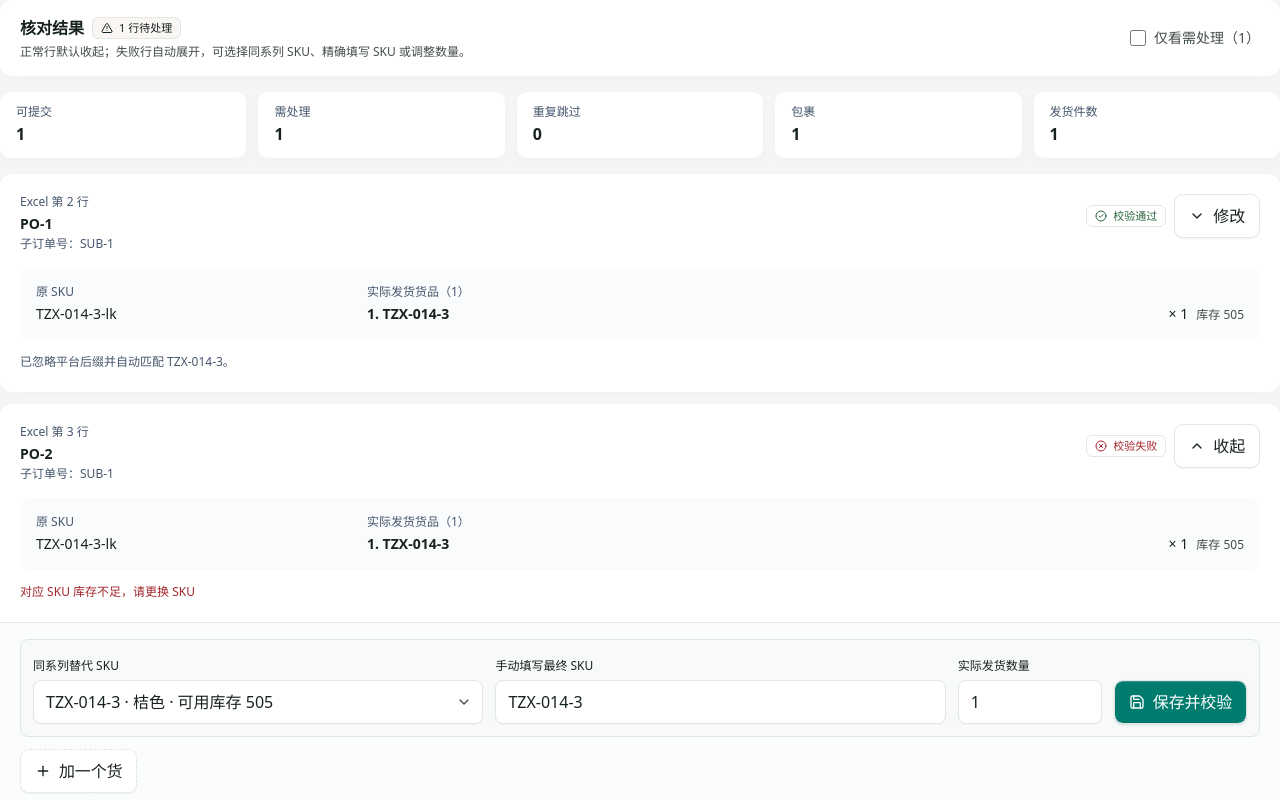
ImportReviewTable › keeps ready rows compact, opens failed rows, and filters to rows needing attention
The image size is (1280, 800).
Expected: the text "对应 SKU 库存不足，请更换 SKU" is shown, [20,583,195,600]
What coordinates should you click on to do the following:
click the button with aria-label "修改 Excel 第 2 行"
I would click on:
 (1217, 216)
Its box is [1174,194,1260,238].
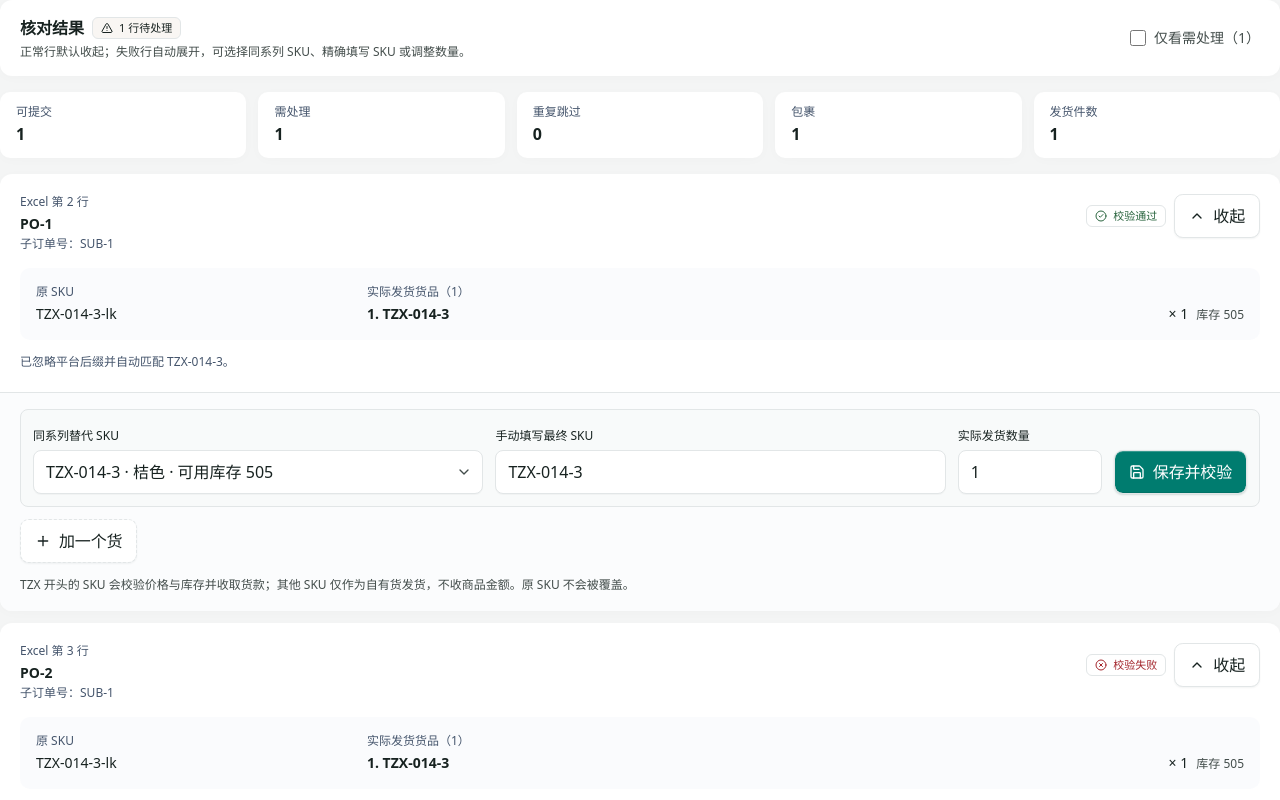
Expected: the element named "Excel 第 2 行编辑器" is shown, [0,392,1279,611]
What coordinates should you click on to do the following:
click the checkbox labelled "仅看需处理（1）"
I would click on:
 (1138, 38)
Its box is [1130,30,1146,46].
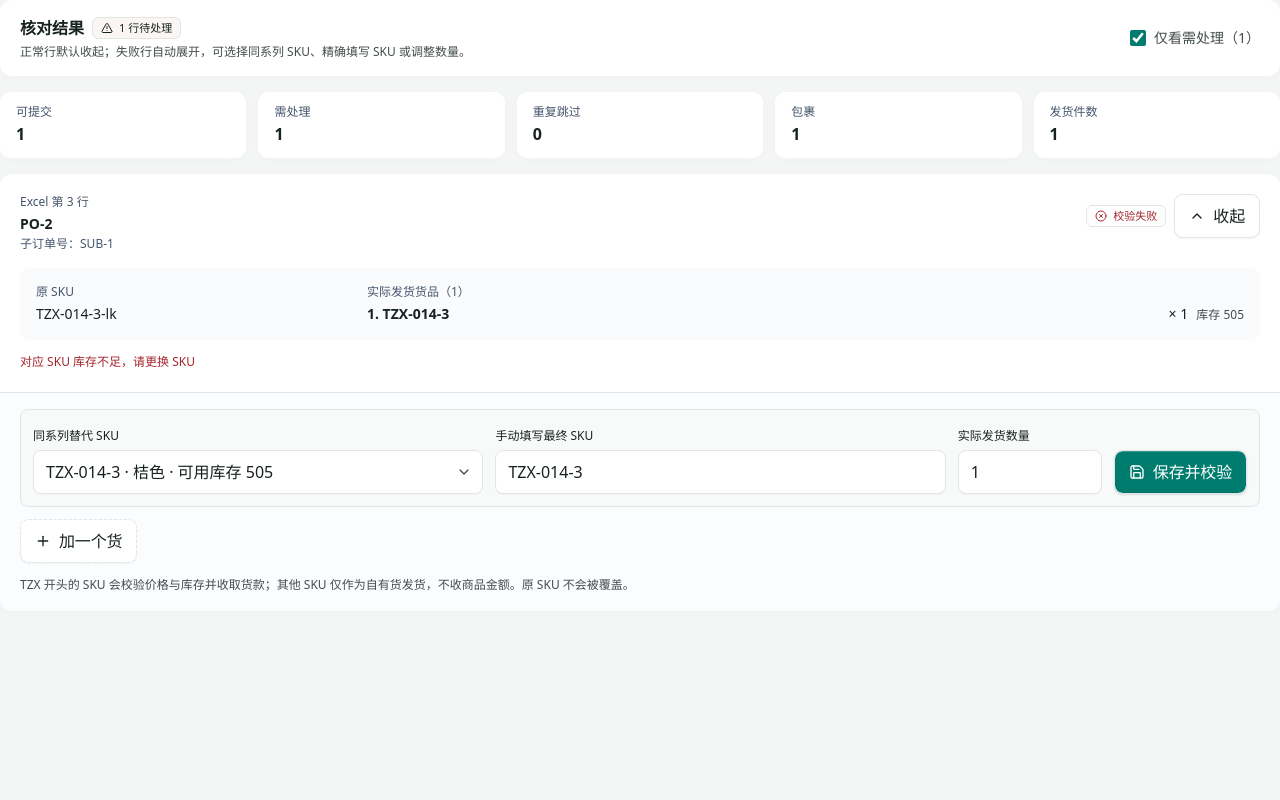
Expected: the list item "Excel 第 3 行" is shown, [0,174,1279,611]
Expected: the text "Excel 第 2 行" is gone
